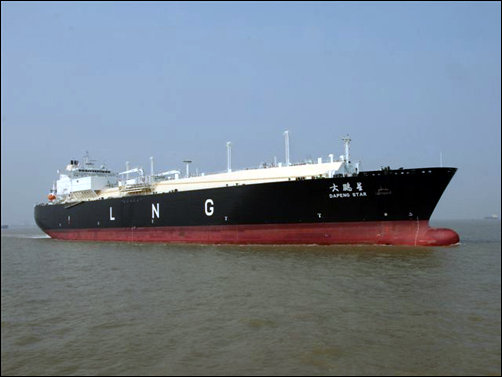Cargoship: (31, 148, 462, 247)
